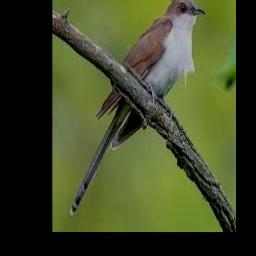Cuckoo: (70, 0, 205, 215)
